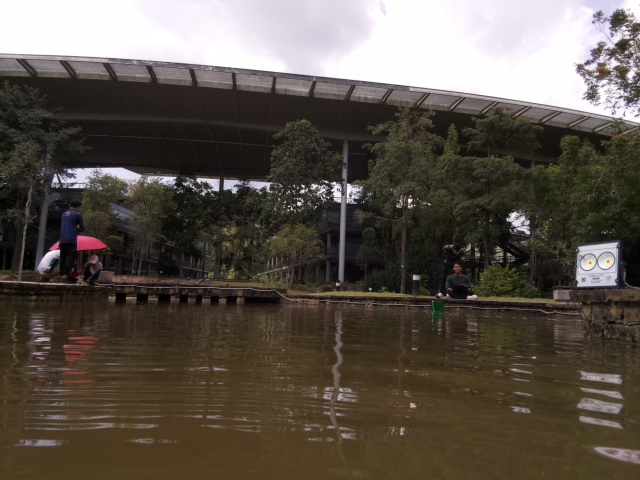obstacle: (430, 299, 446, 314)
